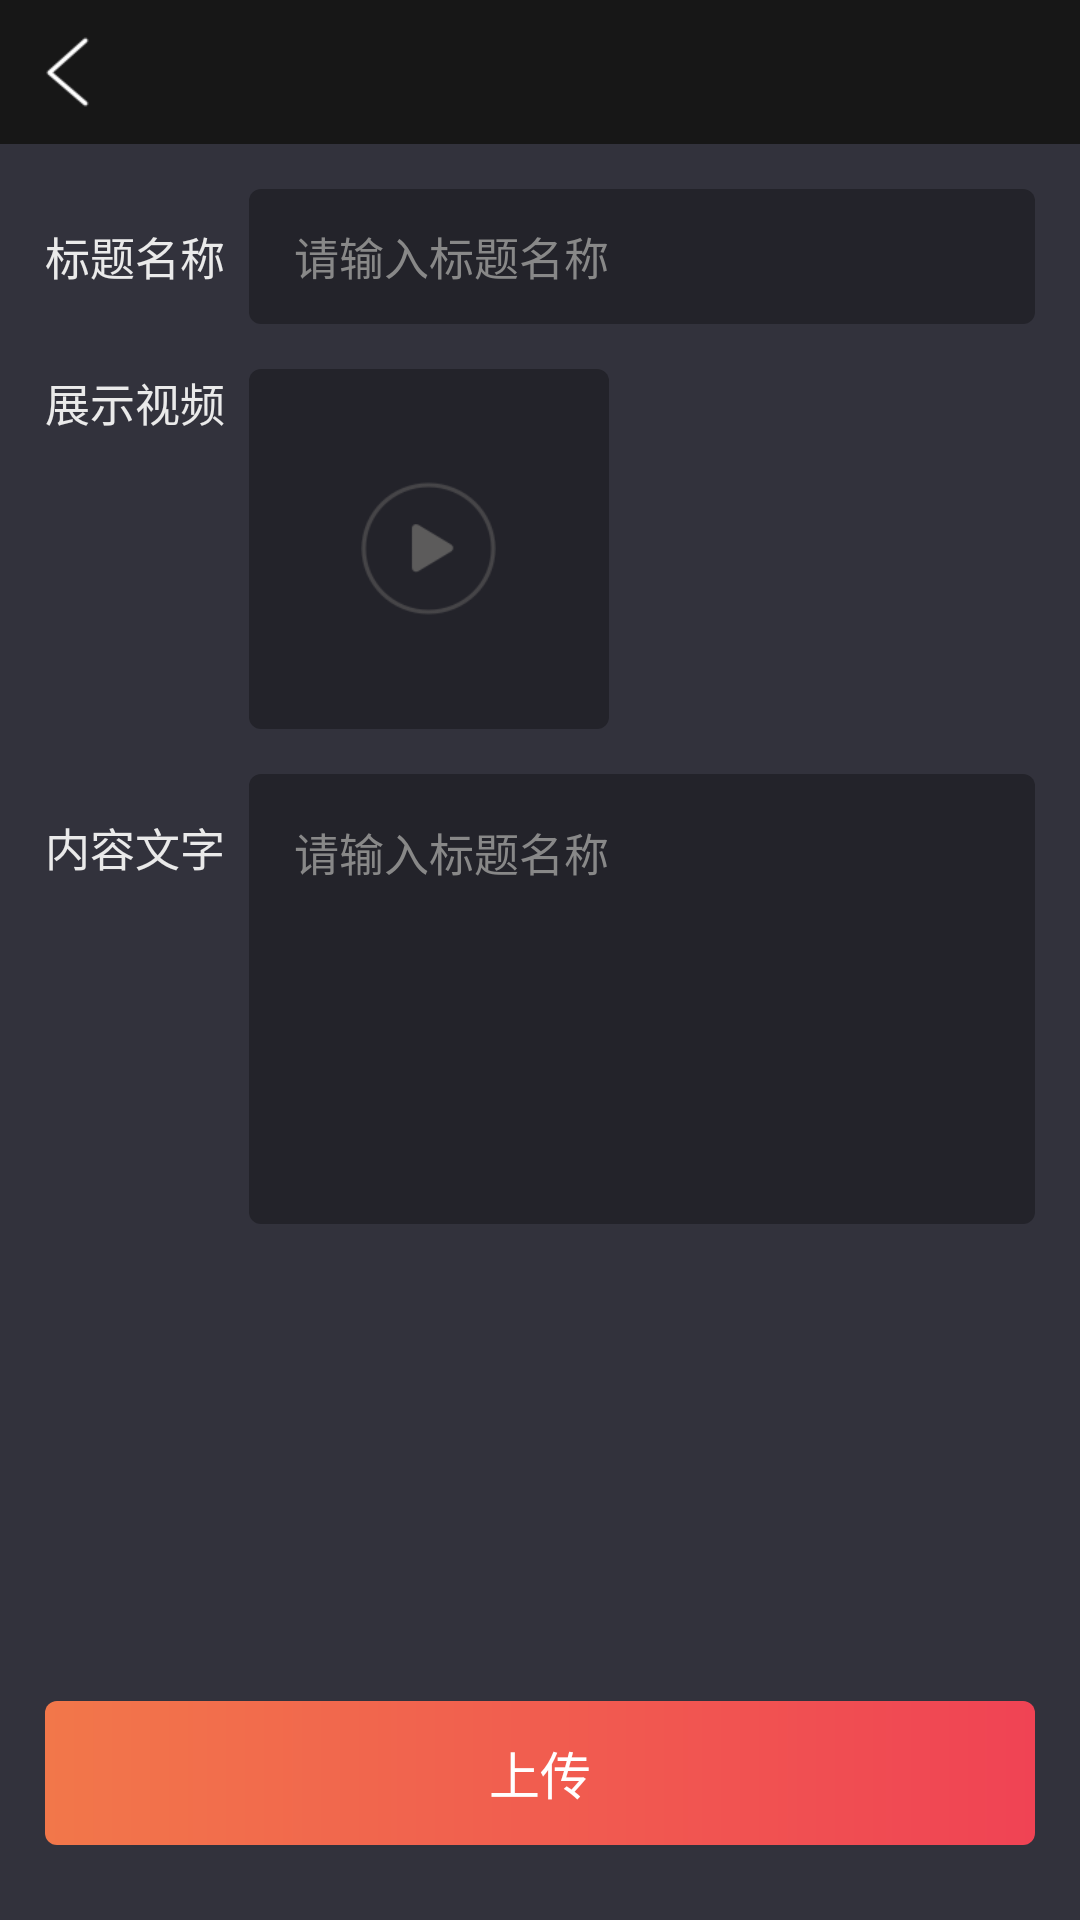

Where icons sit on this 1080×1920 app screen, as (x1, y1, x2, y2):
release video: (362, 484, 495, 613)
titlebar back: (46, 37, 89, 107)
